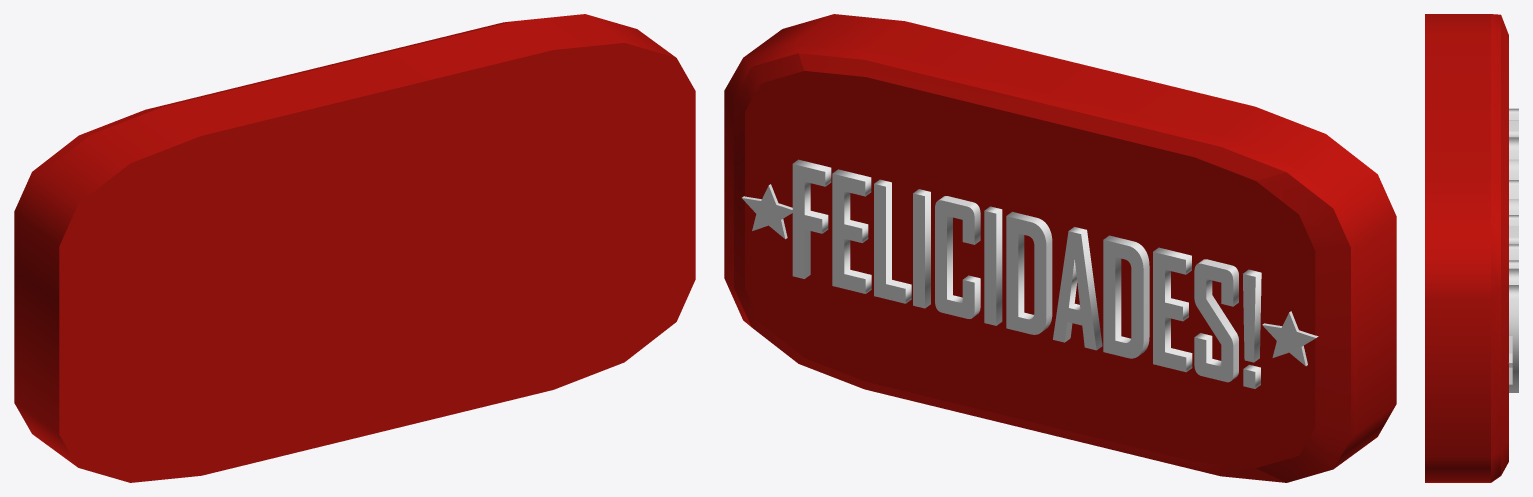
Rendered from felicidadesboton.fbx.
3 views of the same model, side by side, from view 1: azimuth 30°, elevation 25°; view 2: azimuth 150°, elevation 25°; view 3: azimuth 270°, elevation 25° (orthographic). The views are drawn at different scales.
Parts seen in each view (by area): view 1: Text.012; view 2: Text.012; view 3: Text.012.
Part boxes in pixels (box(x1,y1,x2,y2)): Text.012: box(14, 14, 695, 482); Text.012: box(724, 14, 1396, 482); Text.012: box(1425, 14, 1518, 482).
Size of the model in its own units: 115 by 58.5 by 17.5.
